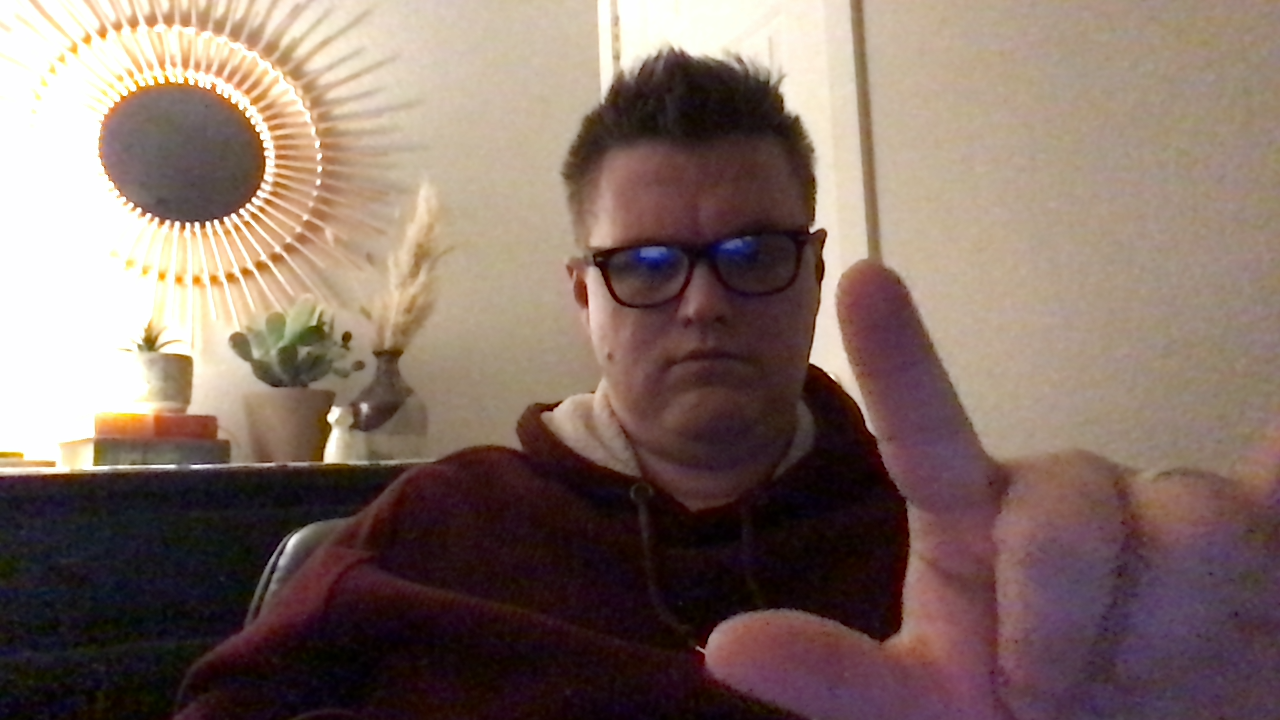iloveyou: (693, 255, 1280, 720)
